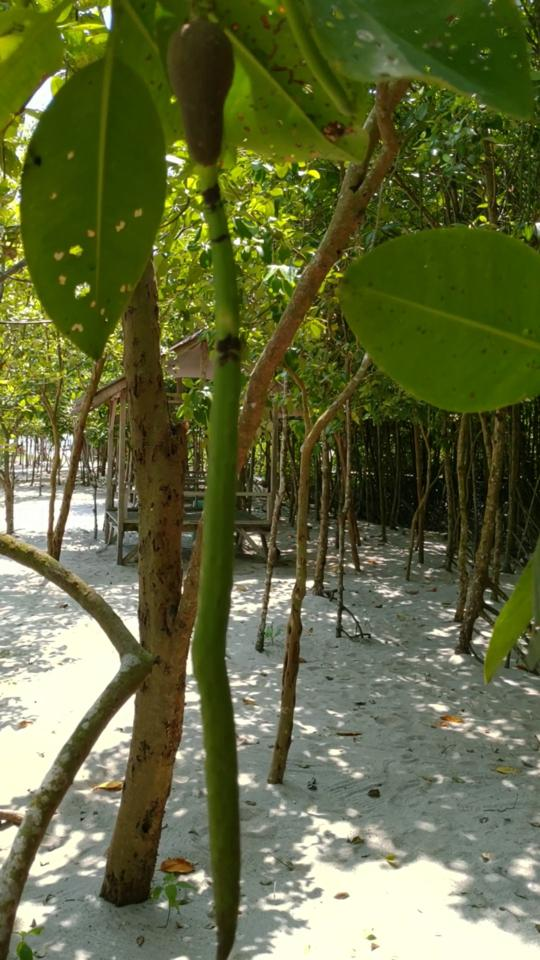mentah: (141, 7, 272, 956)
